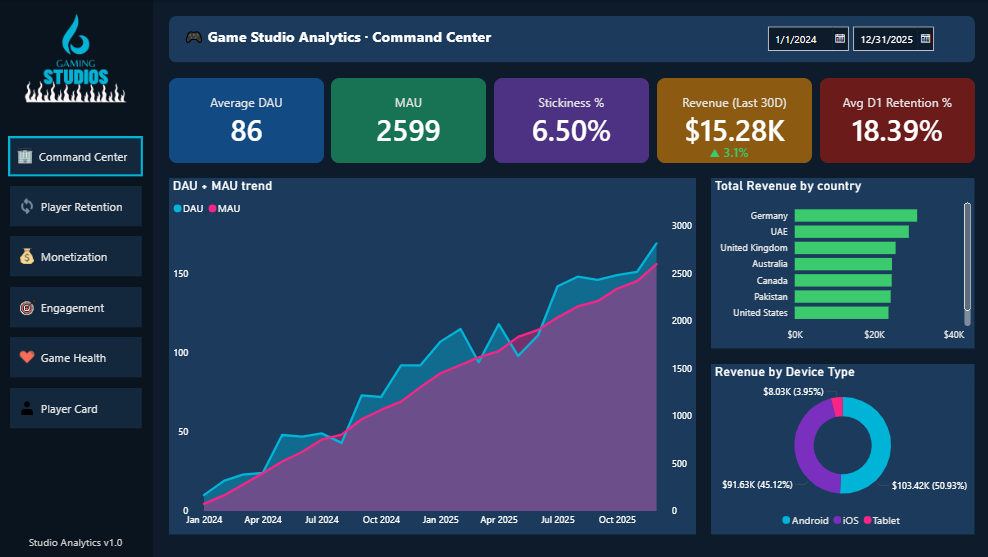

This screenshot's page, from the dashboard's own definition file:
{"tool":"powerbi","page":{"name":"Command Center","canvas":[1280,720],"ordinal":0},"visuals":[{"type":"shape","box":[0,0,199.8,720],"z":0},{"type":"image","box":[15.6,0,170.1,131.8],"z":1000},{"type":"textbox","box":[0,684.6,199.8,35.4],"z":2000},{"type":"actionButton","box":[12.8,175.7,174.3,52.4],"z":3000},{"type":"actionButton","box":[15.6,240,170.1,52.4],"z":4000},{"type":"actionButton","box":[15.6,305,170.1,52.4],"z":5000},{"type":"actionButton","box":[15.6,370,170.1,52.4],"z":6000},{"type":"actionButton","box":[15.6,435,170.1,52.4],"z":7000},{"type":"actionButton","box":[15.6,500,170.1,52.4],"z":8000},{"type":"shape","box":[220,20,1040,60],"z":9000},{"type":"textbox","box":[235.4,30.3,422.5,37.2],"z":10000},{"type":"cardVisual","fields":{"Data":["_Measures.Average DAU"]},"box":[220,100,200,110],"z":11000},{"type":"cardVisual","fields":{"Data":["_Measures.Avg D1 Retention %"]},"box":[1060,100,200,110],"z":12000},{"type":"cardVisual","fields":{"Data":["_Measures.Stickiness %"]},"box":[640.6,100,200,110],"z":13000},{"type":"cardVisual","fields":{"Data":["_Measures.Revenue (Last 30 Days)"]},"box":[850,100,200,110],"z":14000},{"type":"cardVisual","fields":{"Data":["_Measures.MAU"]},"box":[430,100,200,110],"z":15000},{"type":"areaChart","title":"DAU + MAU trend","fields":{"Y":["_Measures.DAU"],"Y2":["_Measures.MAU"],"Category":["dim_date.date_key.Variation.Date Hierarchy.Year","dim_date.date_key.Variation.Date Hierarchy.Month"]},"box":[220.1,230,680,460],"z":16000},{"type":"clusteredBarChart","fields":{"Category":["dim_players.country"],"Y":["_Measures.Total Revenue"]},"box":[920,230,340,220],"z":17000},{"type":"slicer","fields":{"Values":["dim_date.date_key"]},"box":[980,25,260,50],"z":18000},{"type":"donutChart","title":"Revenue by Device Type","fields":{"Category":["dim_players.device_type"],"Y":["_Measures.Total Revenue"]},"box":[920,470,340,220],"z":19000},{"type":"cardVisual","fields":{"Data":["_Measures.Revenue MoM Label"]},"box":[888.5,159.5,122.4,68.3],"z":20000}]}

Visuals, with their boxes in screenshot pixels (x1, y1, x2, y2), scaled from the page's 1280x720 canvas onto the 988x557 screenshot:
shape: (0,0,154,556)
image: (12,0,143,102)
textbox: (0,530,154,556)
actionButton: (10,136,144,176)
actionButton: (12,186,143,226)
actionButton: (12,236,143,276)
actionButton: (12,286,143,327)
actionButton: (12,337,143,377)
actionButton: (12,387,143,427)
shape: (170,15,973,62)
textbox: (182,23,508,52)
cardVisual - _Measures.Average DAU: (170,77,324,162)
cardVisual - _Measures.Avg D1 Retention %: (818,77,973,162)
cardVisual - _Measures.Stickiness %: (494,77,649,162)
cardVisual - _Measures.Revenue (Last 30 Days): (656,77,810,162)
cardVisual - _Measures.MAU: (332,77,486,162)
"DAU + MAU trend" areaChart: (170,178,695,534)
clusteredBarChart - dim_players.country x _Measures.Total Revenue: (710,178,973,348)
slicer - dim_date.date_key: (756,19,957,58)
"Revenue by Device Type" donutChart: (710,364,973,534)
cardVisual - _Measures.Revenue MoM Label: (686,123,780,176)
